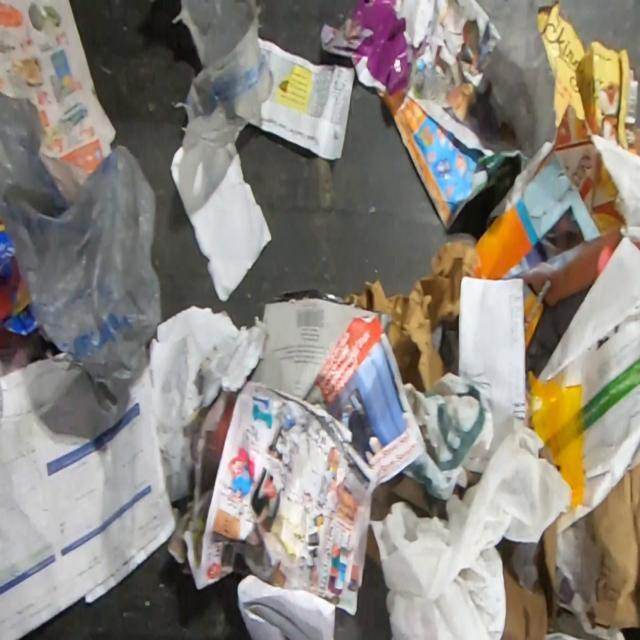cardboard: (534, 0, 640, 236), (342, 237, 477, 397), (474, 154, 602, 281), (400, 369, 495, 500), (318, 0, 437, 98), (585, 441, 640, 631), (494, 520, 556, 640), (0, 217, 38, 339), (370, 471, 448, 522), (366, 525, 381, 569)
soft_plastic: (0, 90, 165, 384), (168, 0, 276, 155), (525, 367, 585, 510)
